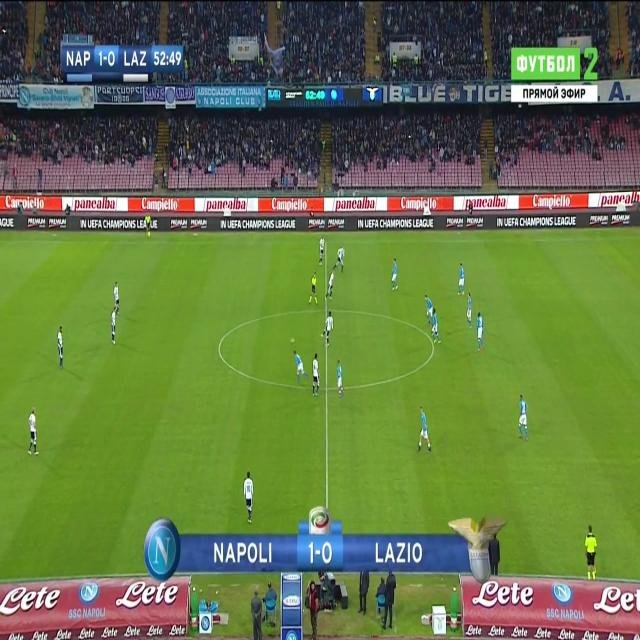Ball: (288, 334, 297, 346)
Player: (416, 404, 432, 460), (320, 307, 335, 354), (242, 470, 255, 524), (293, 348, 311, 386), (26, 407, 39, 459), (517, 390, 531, 438), (323, 264, 336, 306), (311, 351, 322, 396), (55, 324, 65, 369), (475, 309, 485, 354), (456, 260, 466, 300), (111, 276, 121, 314), (109, 306, 118, 347), (431, 306, 440, 346), (390, 257, 400, 293), (466, 288, 474, 332), (336, 357, 345, 396), (335, 244, 347, 273), (423, 291, 433, 324), (320, 233, 327, 267)
Referee: (582, 524, 599, 580), (306, 271, 320, 308), (144, 212, 152, 241)
